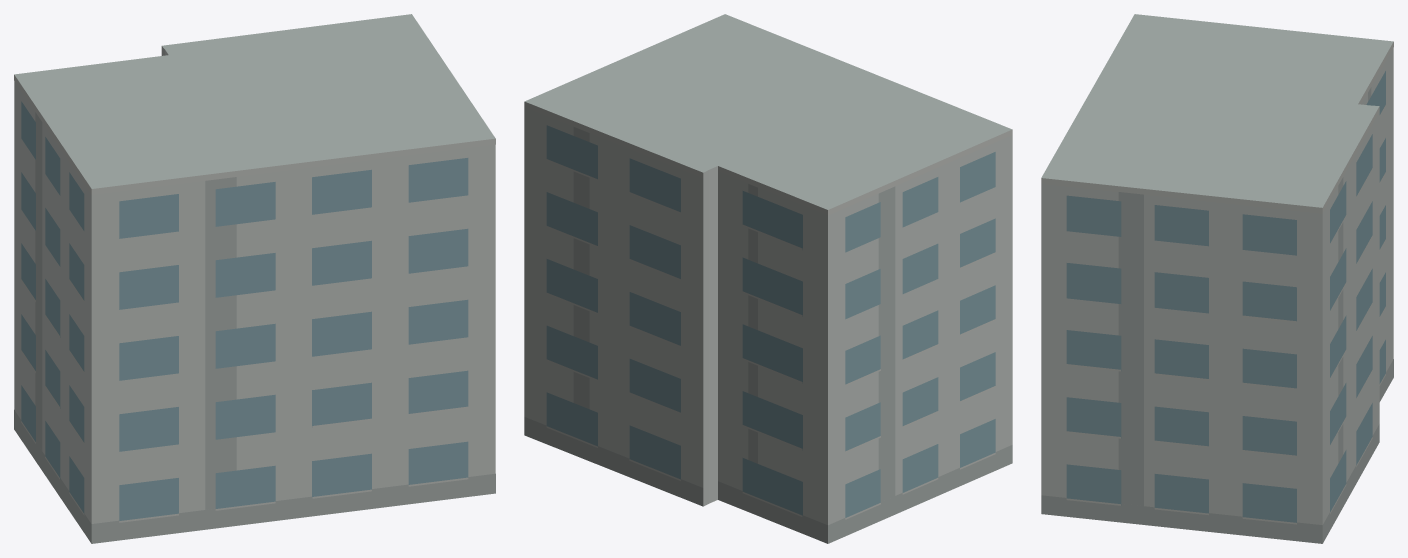
The model's file is survey-upis-32894233.glb.
3 views of the same model, side by side, from view 1: azimuth 30°, elevation 25°; view 2: azimuth 150°, elevation 25°; view 3: azimuth 270°, elevation 25° (orthographic). The views are drawn at different scales.
Parts seen in each view (by area): view 1: survey-upis-32894233.tmp; view 2: survey-upis-32894233.tmp; view 3: survey-upis-32894233.tmp.
Part boxes in pixels (x1=…): survey-upis-32894233.tmp: x1=14, y1=14, x2=495, y2=543; survey-upis-32894233.tmp: x1=524, y1=14, x2=1012, y2=543; survey-upis-32894233.tmp: x1=1041, y1=14, x2=1393, y2=543.
Size of the model in its own units: 17.82 by 14.4 by 13.7.
